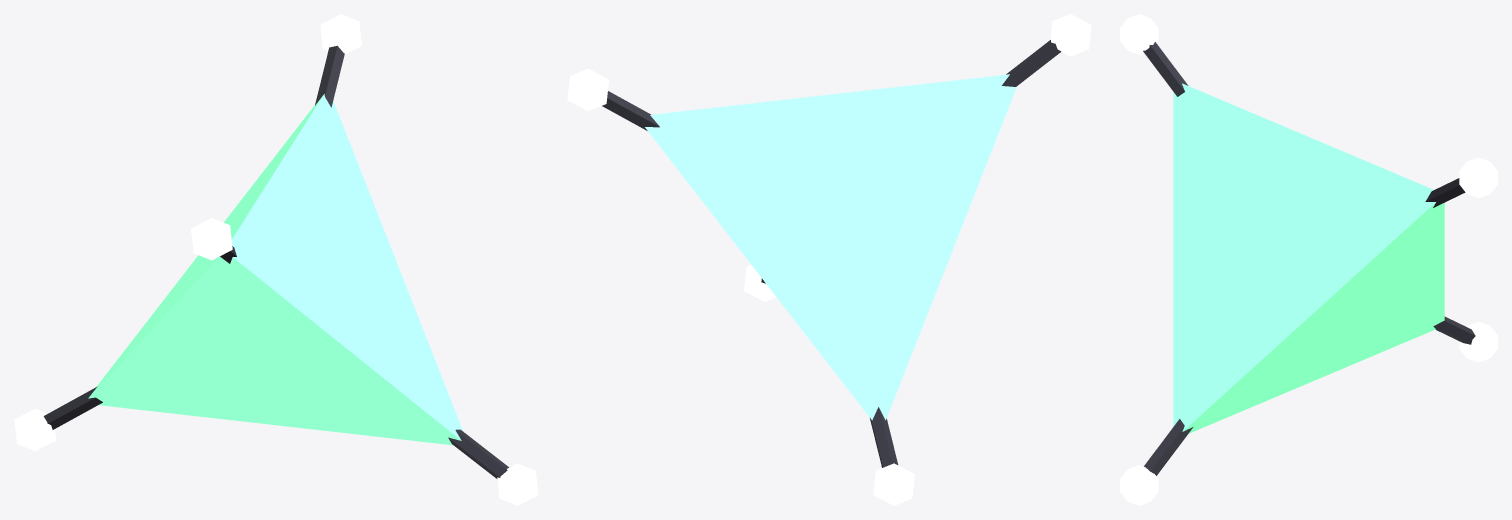
Rendered from drone_1.glb.
The picture shows the model from 3 angles, left to right: view 1: azimuth 30°, elevation 25°; view 2: azimuth 150°, elevation 25°; view 3: azimuth 270°, elevation 25°; orthographic projection. The views are drawn at different scales.
Parts seen in each view (by area): view 1: drone_1; view 2: drone_1; view 3: drone_1.
Boxes of the visible parts, box(x1,y1,x2,y2) form: drone_1: box(14, 14, 538, 505); drone_1: box(567, 14, 1091, 505); drone_1: box(1120, 14, 1497, 505).
Size of the model in its own units: 0.6716 by 0.68 by 0.6681.
